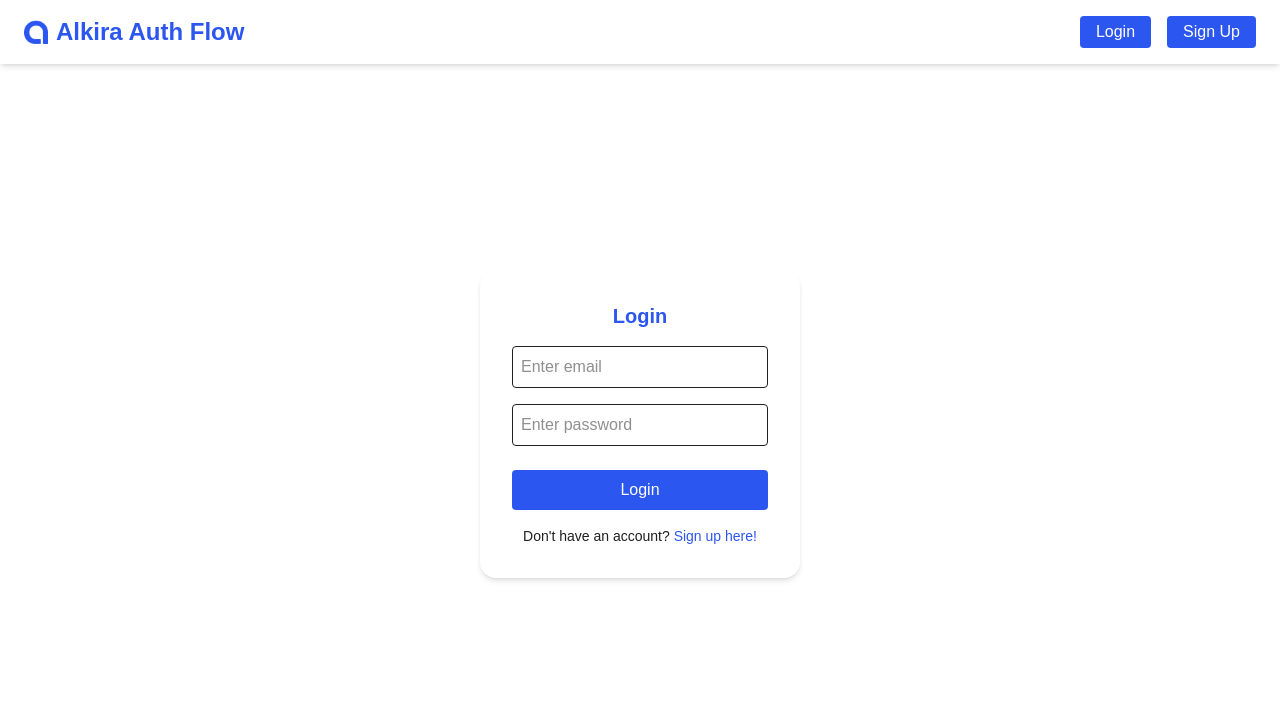
Test: Authentication Flow › logs in and redirects to MFA page
Type "user@example.com" into the field with placeholder "Enter email".
click(640, 367); type("user@example.com")  # box [512, 346, 768, 388]
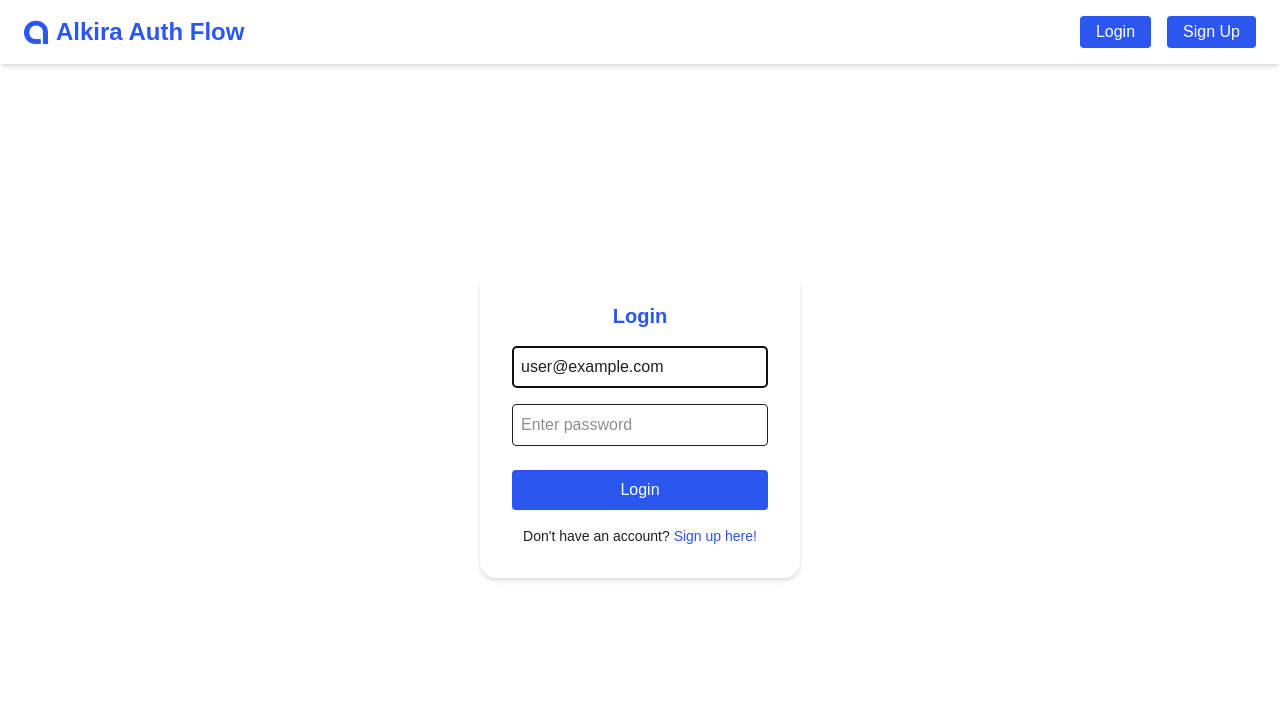
Type "password" into the password field with placeholder "Enter password".
click(640, 425); type("password")  # box [512, 404, 768, 446]
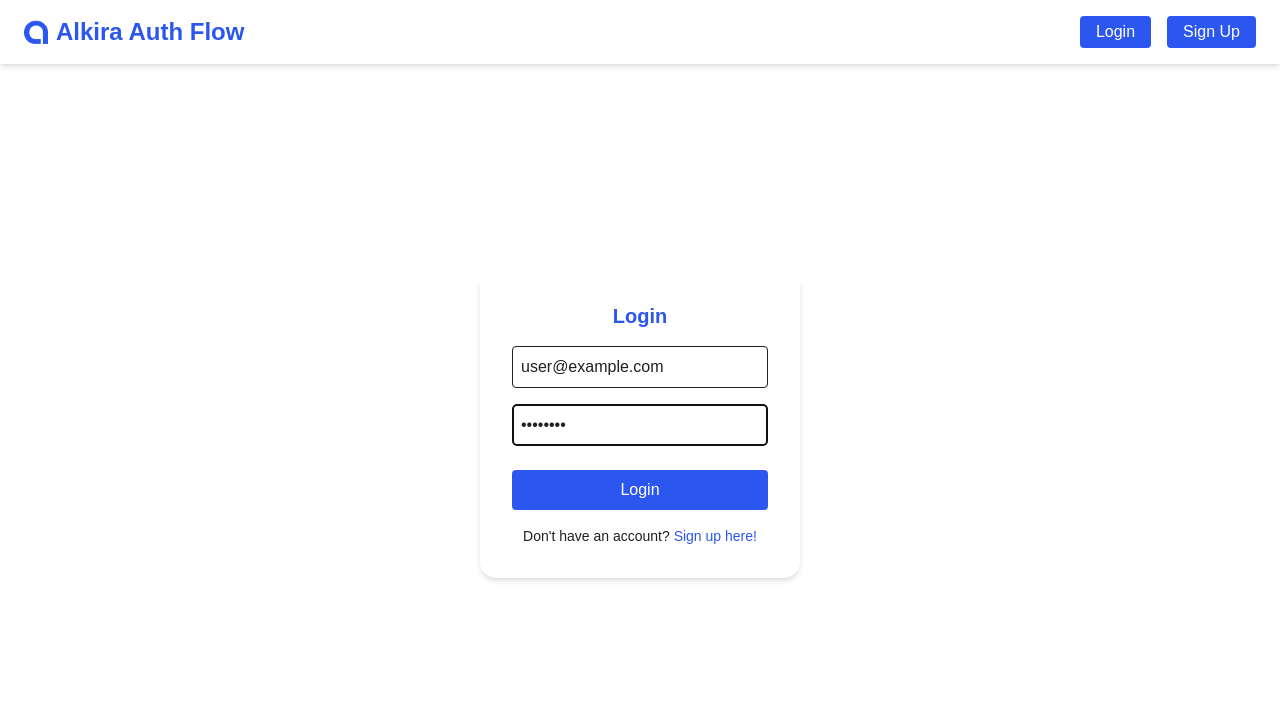
Click the submit button.
click(640, 490)  # box [512, 470, 768, 510]
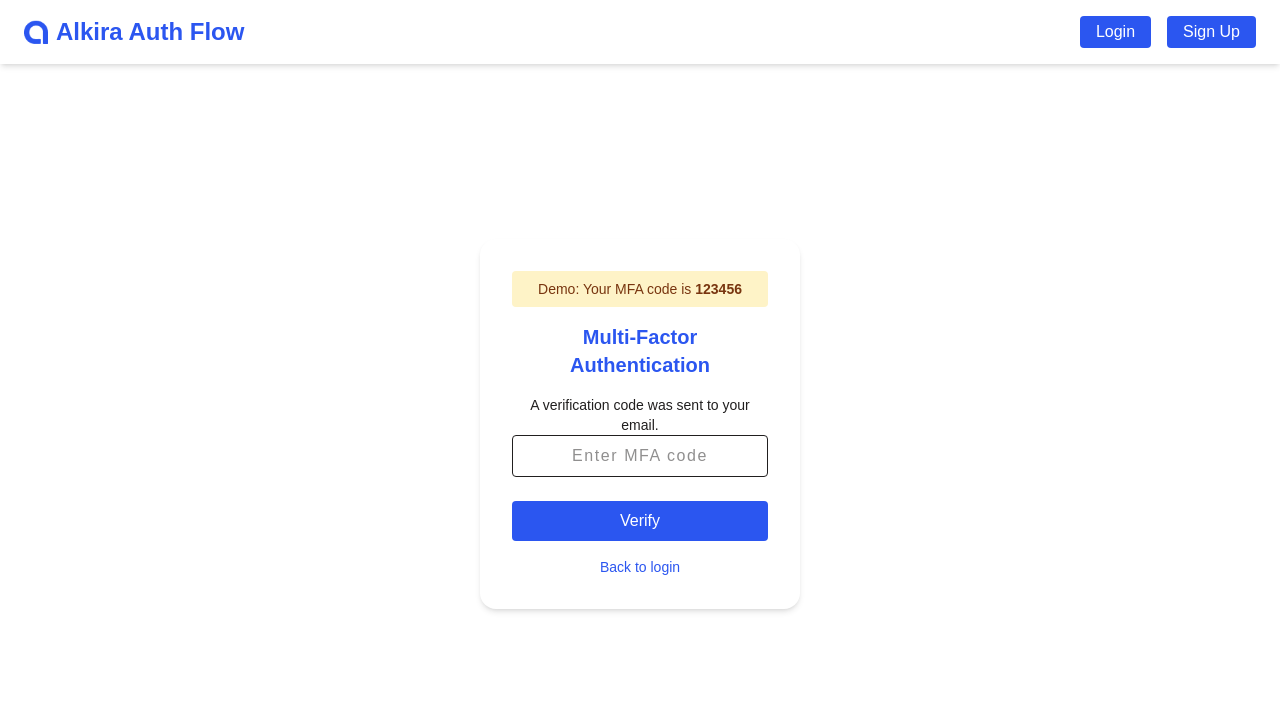
Now the heading "Multi-Factor Authentication" is shown, box [570, 326, 710, 376]
